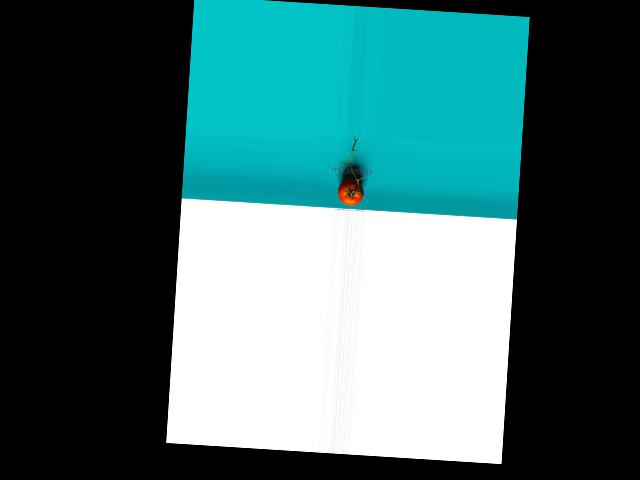tomato: (337, 178, 365, 205)
